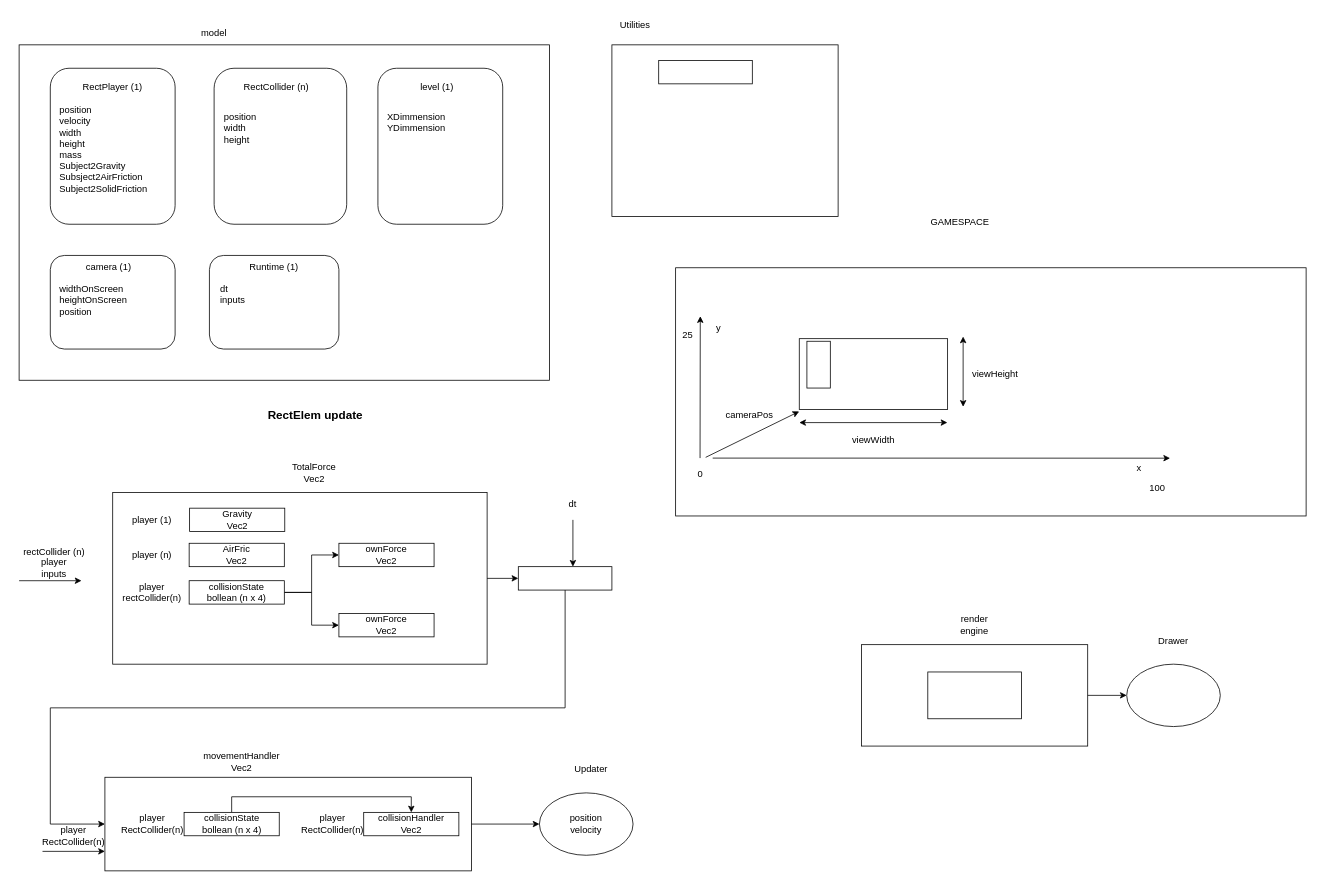
Some shapes in this 1320 by 885 pixel diagram are drawn without their labels. Here are the shapes that lost their labels. From the top down, the centre of each, then its label:
[705,72]: rectDef
[565,578]: dynamics Vec2
[974,695]: render rect
